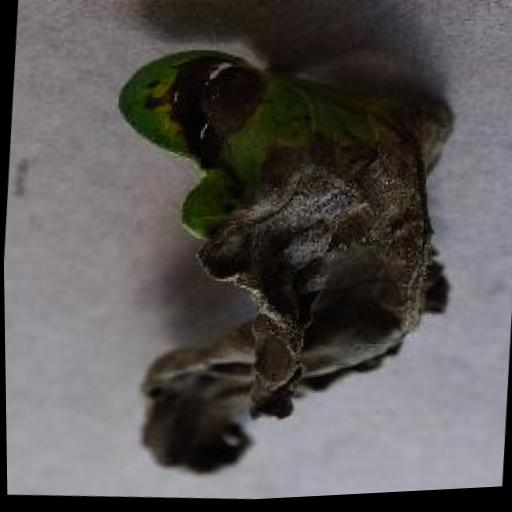Early Blight: (75, 27, 465, 501)
